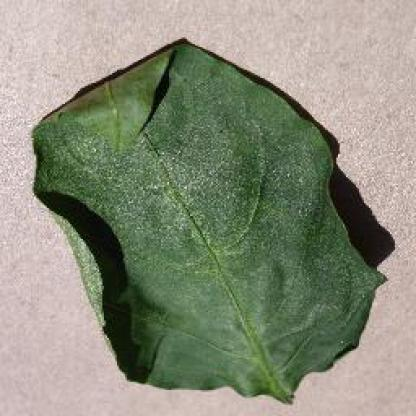bad leaf: (38, 57, 195, 133)
